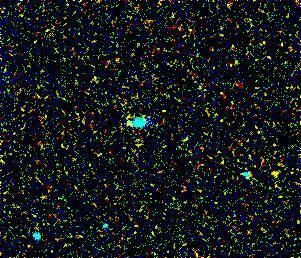star: (258, 158, 288, 188)
